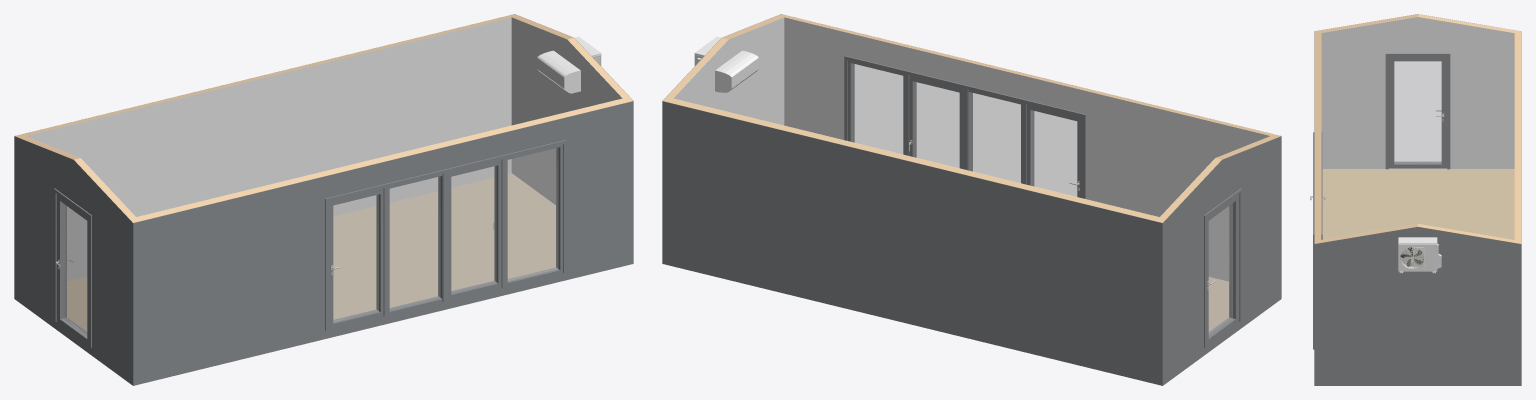
The model's file is Danguole +37068425985 (3.5x8.fbx.
3 renders of one model, left to right at view 1: azimuth 30°, elevation 25°; view 2: azimuth 150°, elevation 25°; view 3: azimuth 270°, elevation 25°, orthographic. The views are drawn at different scales.
Parts seen in each view (by area): view 1: IfcWall/Part:2319977, IfcWall/Part:2319982, IfcSlab/Part:2319985, IfcWall/Part:2368366, IfcWindow/Langai (Akrusta):1000x2100x120:2427314, IfcWindow/Langai (Akrusta):1000x2100x120 (dešininis):2427302, IfcDoor/Durys išorinės:1000x2100x120 (dešininės):2387746, IfcWindow/Langai (Akrusta):1000x2100x120:2408715, IfcWall/Part:2319979, IfcDoor/Durys išorinės:1000x2100x120 (dešininės):2426845, IfcWall/Part:2319978, IfcWall/Part:2319984 (+3 smaller); view 2: IfcWall/Part:2319983, IfcWall/Part:2319976, IfcWall/Part:2368366, IfcWall/Part:2319979, IfcWindow/Langai (Akrusta):1000x2100x120:2427314, IfcWindow/Langai (Akrusta):1000x2100x120 (dešininis):2427302, IfcDoor/Durys išorinės:1000x2100x120 (dešininės):2387746, IfcWindow/Langai (Akrusta):1000x2100x120:2408715, IfcDoor/Durys išorinės:1000x2100x120 (dešininės):2426845, IfcWall/Part:2319984, IfcWall/Part:2319978, IfcEnergyConversionDevice/Fujitsu General_ASUA30-36TLAV2:ASU (+3 smaller); view 3: IfcWall/Part:2319980, IfcWall/Part:2368365, IfcSlab/Part:2319985, IfcDoor/Durys išorinės:1000x2100x120 (dešininės):2426845, IfcWall/Part:2319984, IfcBuildingElementProxy/Toshiba_Air_Handling_Unit_-_Inverter, IfcWall/Part:2319978, IfcWall/Part:2319981, IfcWall/Part:2368367, IfcWall/Part:2319983, IfcWindow/Langai (Akrusta):1000x2100x120:2427314, IfcWall/Part:2319977 (+1 smaller).
Boxes of the visible parts, x1=… form: IfcWall/Part:2319977: x1=133, y1=101, x2=633, y2=385; IfcWall/Part:2319982: x1=26, y1=17, x2=511, y2=281; IfcSlab/Part:2319985: x1=67, y1=173, x2=555, y2=331; IfcWall/Part:2368366: x1=14, y1=136, x2=132, y2=385; IfcWindow/Langai (Akrusta):1000x2100x120:2427314: x1=501, y1=140, x2=566, y2=288; IfcWindow/Langai (Akrusta):1000x2100x120 (dešininis):2427302: x1=438, y1=154, x2=507, y2=302; IfcDoor/Durys išorinės:1000x2100x120 (dešininės):2387746: x1=325, y1=183, x2=389, y2=331; IfcWindow/Langai (Akrusta):1000x2100x120:2408715: x1=383, y1=168, x2=448, y2=316; IfcWall/Part:2319979: x1=511, y1=17, x2=622, y2=204; IfcDoor/Durys išorinės:1000x2100x120 (dešininės):2426845: x1=54, y1=188, x2=91, y2=347; IfcWall/Part:2319978: x1=130, y1=98, x2=626, y2=222; IfcWall/Part:2319984: x1=15, y1=14, x2=517, y2=137; IfcWall/Part:2319983: x1=662, y1=101, x2=1162, y2=385; IfcWall/Part:2319976: x1=784, y1=17, x2=1269, y2=281; IfcWall/Part:2368366: x1=1163, y1=136, x2=1281, y2=385; IfcWall/Part:2319979: x1=673, y1=17, x2=784, y2=125; IfcWindow/Langai (Akrusta):1000x2100x120:2427314: x1=844, y1=56, x2=909, y2=155; IfcWindow/Langai (Akrusta):1000x2100x120 (dešininis):2427302: x1=903, y1=70, x2=972, y2=170; IfcDoor/Durys išorinės:1000x2100x120 (dešininės):2387746: x1=1021, y1=99, x2=1085, y2=198; IfcWindow/Langai (Akrusta):1000x2100x120:2408715: x1=962, y1=84, x2=1026, y2=184; IfcDoor/Durys išorinės:1000x2100x120 (dešininės):2426845: x1=1204, y1=188, x2=1241, y2=347; IfcWall/Part:2319984: x1=663, y1=97, x2=1165, y2=222; IfcWall/Part:2319978: x1=784, y1=16, x2=1280, y2=137; IfcEnergyConversionDevice/Fujitsu General_ASUA30-36TLAV2:ASU: x1=715, y1=50, x2=758, y2=92; IfcWall/Part:2319980: x1=1314, y1=227, x2=1521, y2=385; IfcWall/Part:2368365: x1=1321, y1=17, x2=1514, y2=168; IfcSlab/Part:2319985: x1=1322, y1=169, x2=1514, y2=239; IfcDoor/Durys išorinės:1000x2100x120 (dešininės):2426845: x1=1385, y1=53, x2=1450, y2=169; IfcWall/Part:2319984: x1=1514, y1=30, x2=1521, y2=243; IfcBuildingElementProxy/Toshiba_Air_Handling_Unit_-_Inverter: x1=1398, y1=237, x2=1441, y2=273; IfcWall/Part:2319978: x1=1314, y1=30, x2=1320, y2=240; IfcWall/Part:2319981: x1=1314, y1=224, x2=1514, y2=243; IfcWall/Part:2368367: x1=1321, y1=14, x2=1514, y2=32; IfcWall/Part:2319983: x1=1521, y1=31, x2=1521, y2=385; IfcWindow/Langai (Akrusta):1000x2100x120:2427314: x1=1313, y1=207, x2=1322, y2=349; IfcWall/Part:2319977: x1=1314, y1=31, x2=1314, y2=243.
Bounding box in the file's own units: 887 × 297 × 357.
